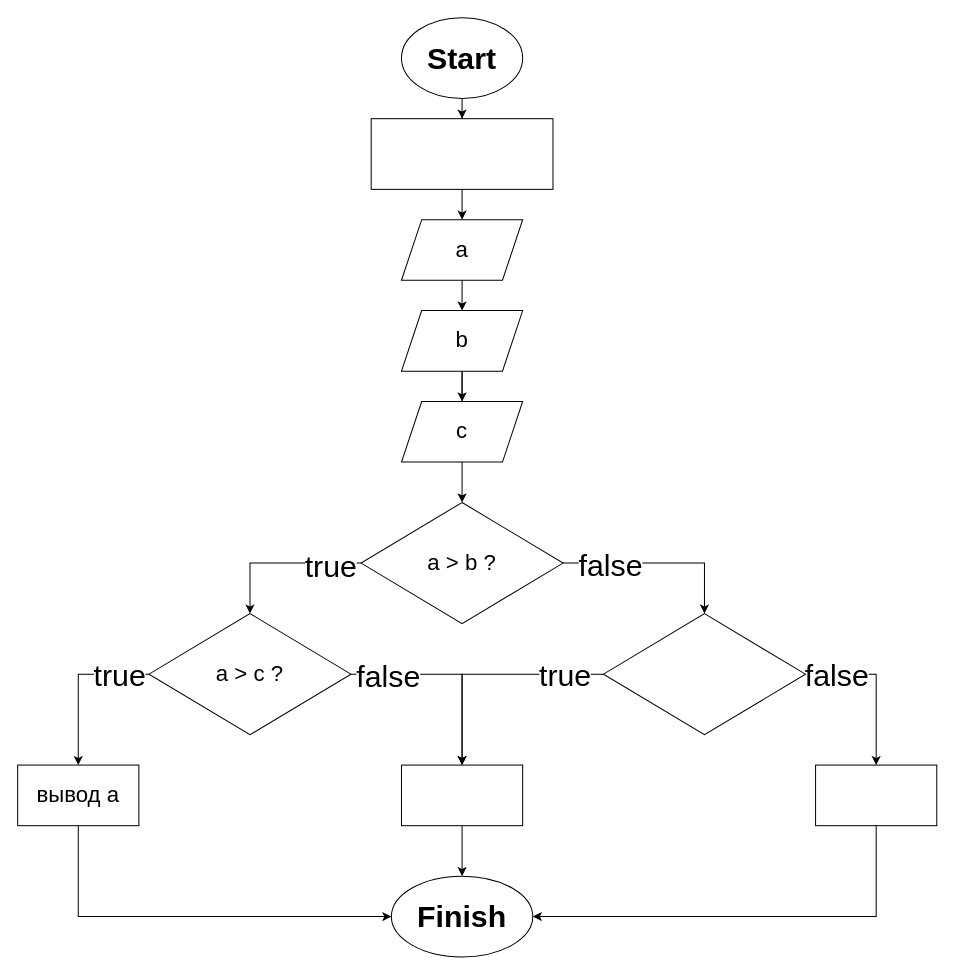
Image size: 954x975. Some labels were removed from this diagram. The shapes that lost their labels are listed below. From the top down, each one's box as (x1, y1, x2, y2) in pixels, then its label:
(370, 118, 553, 189): a: doble = 0, b: doble = 0, c: double = 0
(602, 613, 805, 735): b > c ?
(400, 764, 523, 826): вывод с
(815, 764, 937, 826): вывод b
